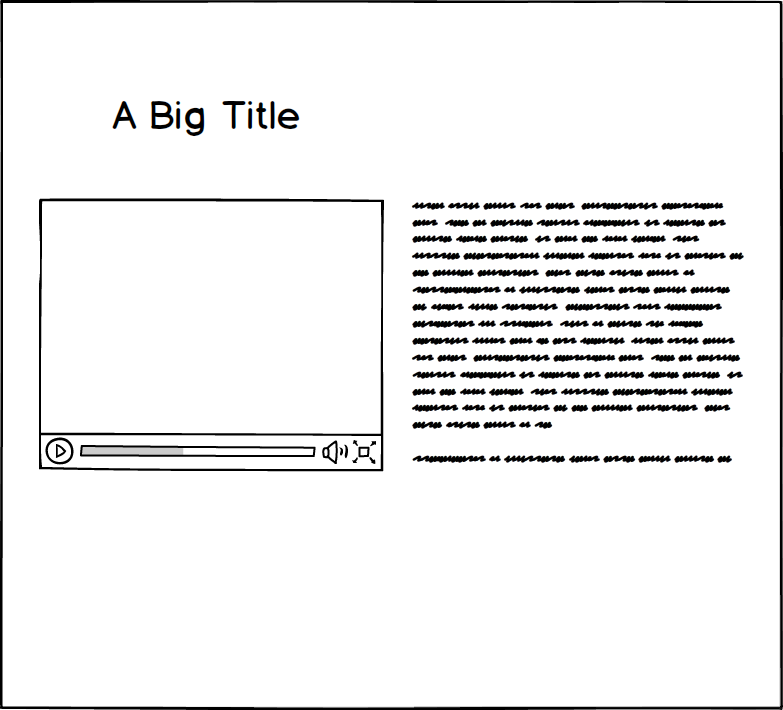h1: (103, 88, 308, 139)
p: (406, 195, 748, 472)
video: (31, 194, 391, 479)
